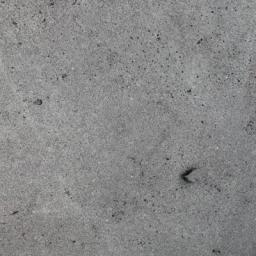FOD: (182, 166, 206, 187)
